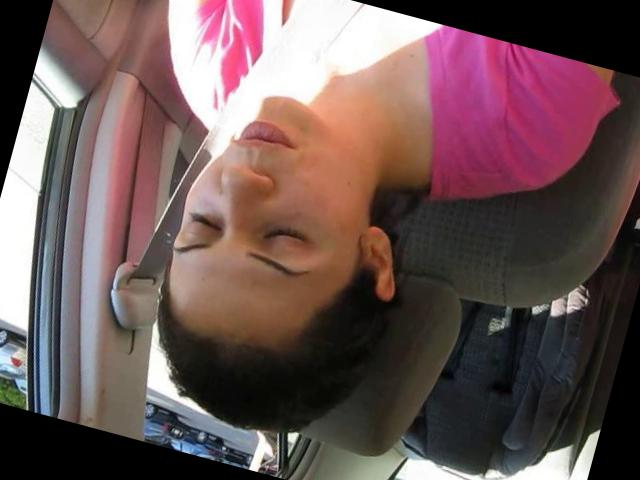eye_closed: (260, 212, 318, 260), (182, 202, 228, 243)
face: (158, 74, 374, 319)
